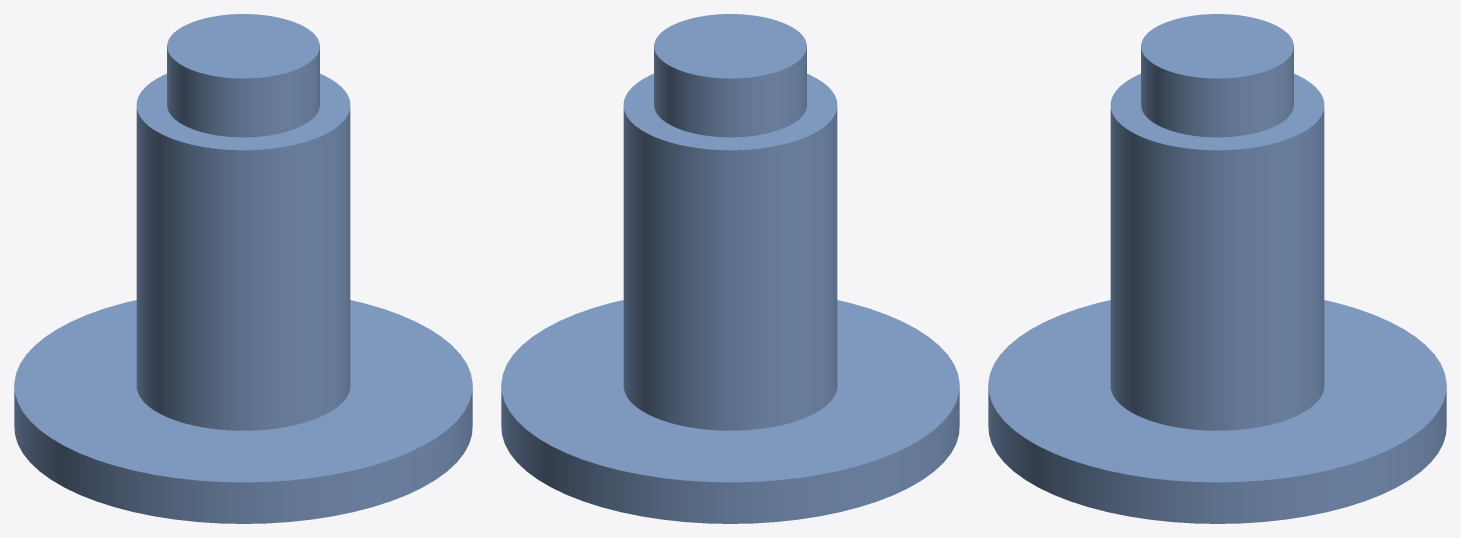
The model's file is step_15.glb.
3 renders of one model, left to right at view 1: azimuth 30°, elevation 25°; view 2: azimuth 150°, elevation 25°; view 3: azimuth 270°, elevation 25°, orthographic.
Visible parts, largest first — view 1: part__bonnet top valve; view 2: part__bonnet top valve; view 3: part__bonnet top valve.
Boxes of the visible parts, x1=… form: part__bonnet top valve: x1=14, y1=14, x2=472, y2=523; part__bonnet top valve: x1=501, y1=14, x2=959, y2=523; part__bonnet top valve: x1=988, y1=14, x2=1446, y2=523.
Bounding box in the file's own units: 120 × 110 × 120.
